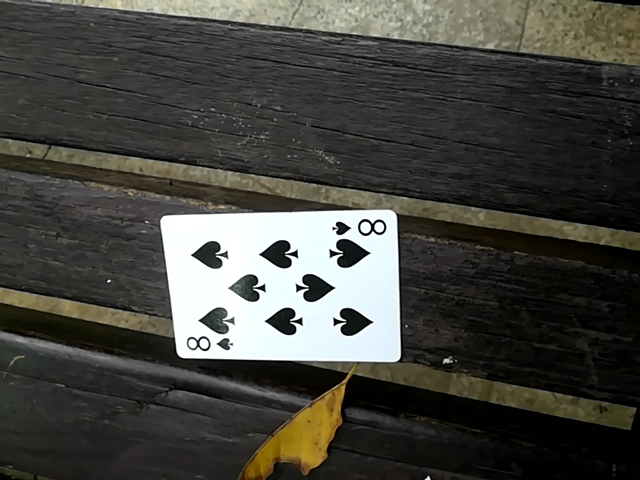ht 8: (152, 206, 403, 369)
